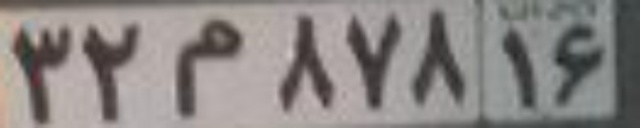1: (499, 26, 539, 106)
2: (82, 19, 137, 121)
3: (7, 20, 75, 123)
6: (549, 23, 604, 109)
7: (344, 11, 403, 109)
8: (274, 14, 333, 110), (413, 10, 469, 108)
mim: (168, 20, 241, 117)
